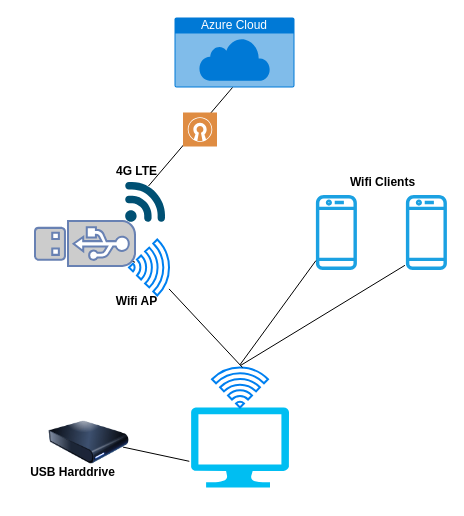
Image size: 464x516. Some labels were removed from this diagram. Each missing label, with the centre of its shape:
"ElimuPI" goes at (239,447).
"OpenVPN" goes at (199,129).
